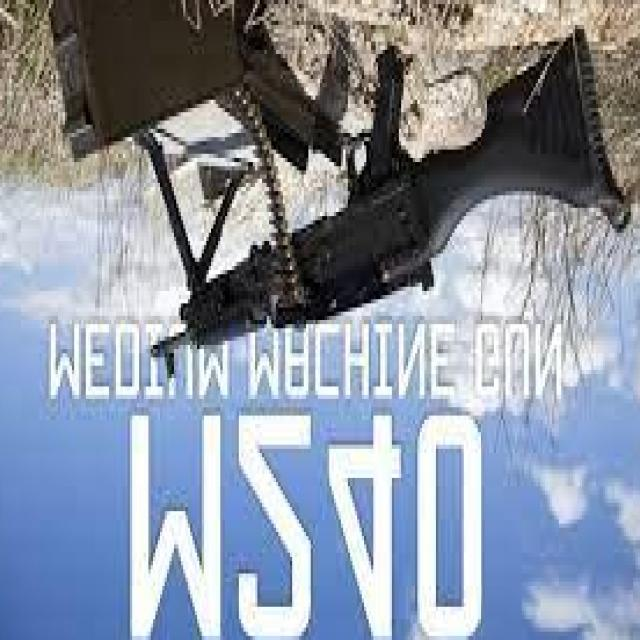Gun: (116, 0, 640, 395)
